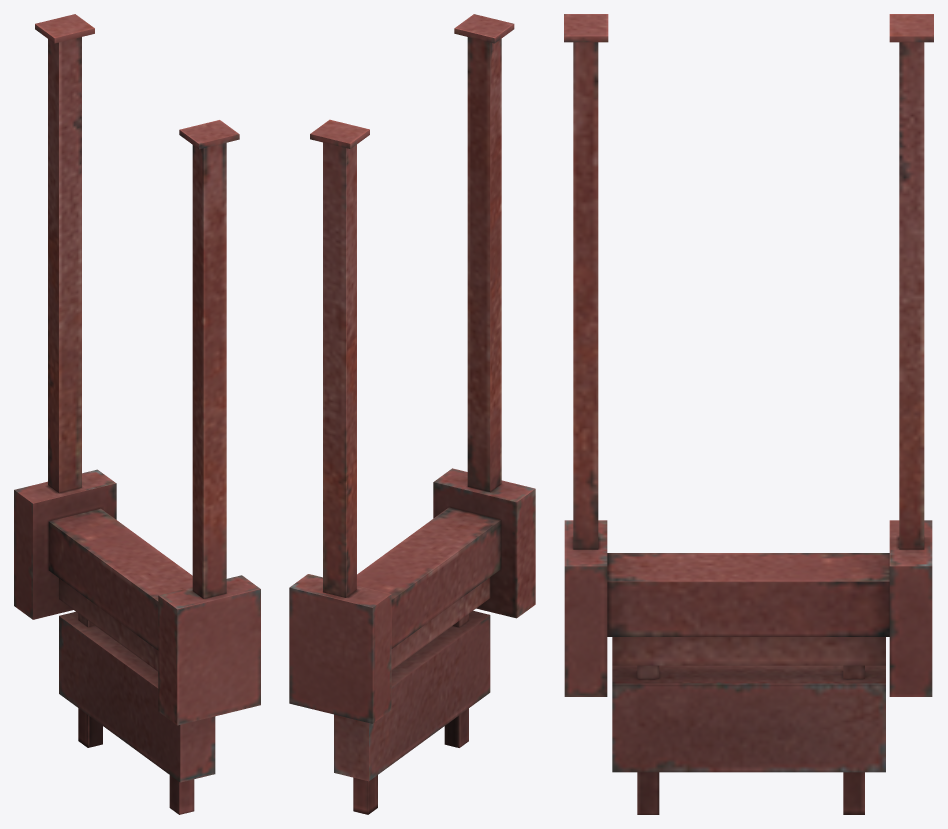
The model's file is Drainage_C.FBX.
3 views of the same model, side by side, from view 1: azimuth 30°, elevation 25°; view 2: azimuth 150°, elevation 25°; view 3: azimuth 270°, elevation 25° (orthographic). The views are drawn at different scales.
Visible parts, largest first — view 1: Drainage_C; view 2: Drainage_C; view 3: Drainage_C.
Boxes of the visible parts, x1,y1,x2,y2 form: Drainage_C: (14, 14, 260, 814); Drainage_C: (289, 14, 535, 814); Drainage_C: (564, 14, 933, 814).
Size of the model in its own units: 9.48 by 32.32 by 75.75.
Materials: 1 (1 with a texture image).
